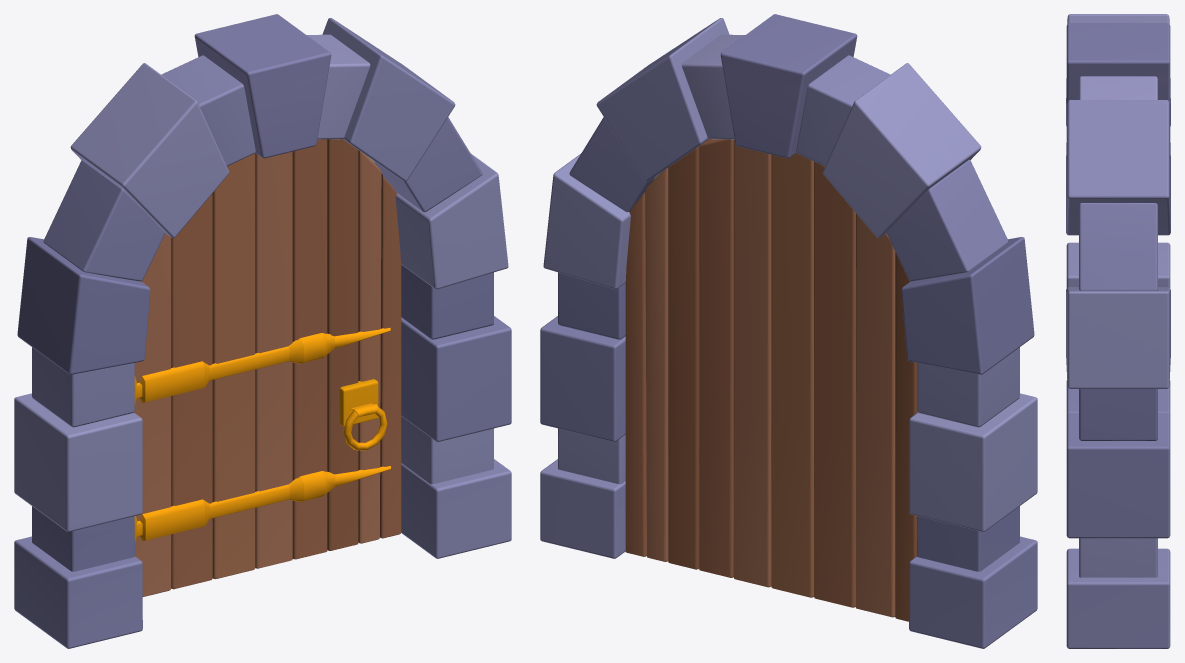
The model's file is DOOR.fbx.
3 views of the same model, side by side, from view 1: azimuth 30°, elevation 25°; view 2: azimuth 150°, elevation 25°; view 3: azimuth 270°, elevation 25° (orthographic). The views are drawn at different scales.
Parts seen in each view (by area): view 1: Ark, Door; view 2: Ark, Door; view 3: Ark.
Part boxes in pixels (left/top/right/bottom): Ark: left=14, top=14, right=511, bottom=648; Door: left=134, top=139, right=401, bottom=596; Ark: left=540, top=14, right=1037, bottom=648; Door: left=625, top=139, right=917, bottom=621; Ark: left=1066, top=14, right=1170, bottom=648.
Bounding box in the file's own units: 12.39 × 14.19 × 2.67.
